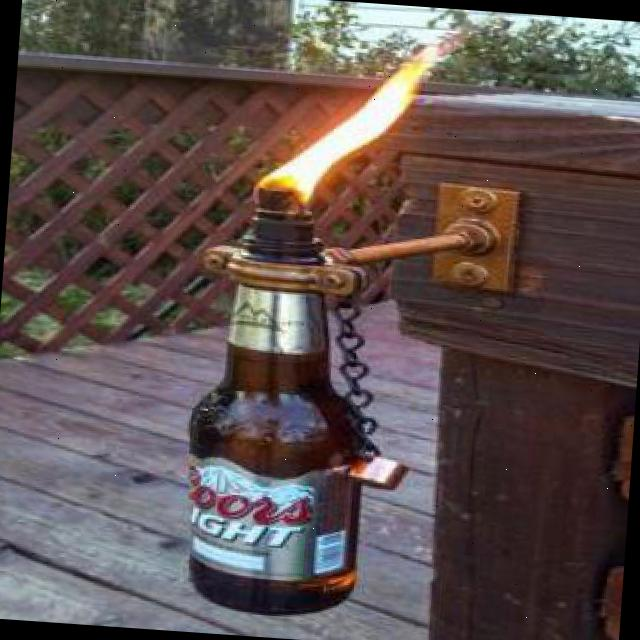fire: (242, 25, 456, 216)
